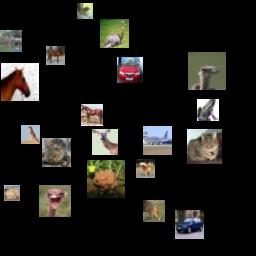airplane: (143, 126, 172, 155)
automobile: (175, 210, 204, 239), (117, 57, 143, 83)
bird: (188, 52, 226, 90), (39, 185, 71, 217), (100, 19, 129, 48), (21, 125, 40, 144)
cat: (187, 129, 222, 164), (42, 138, 71, 167)
deer: (92, 129, 118, 155), (0, 30, 22, 52), (143, 200, 165, 222)
dog: (136, 159, 155, 178), (77, 3, 93, 19), (4, 185, 20, 201)
frog: (87, 160, 125, 198), (197, 99, 219, 121)
